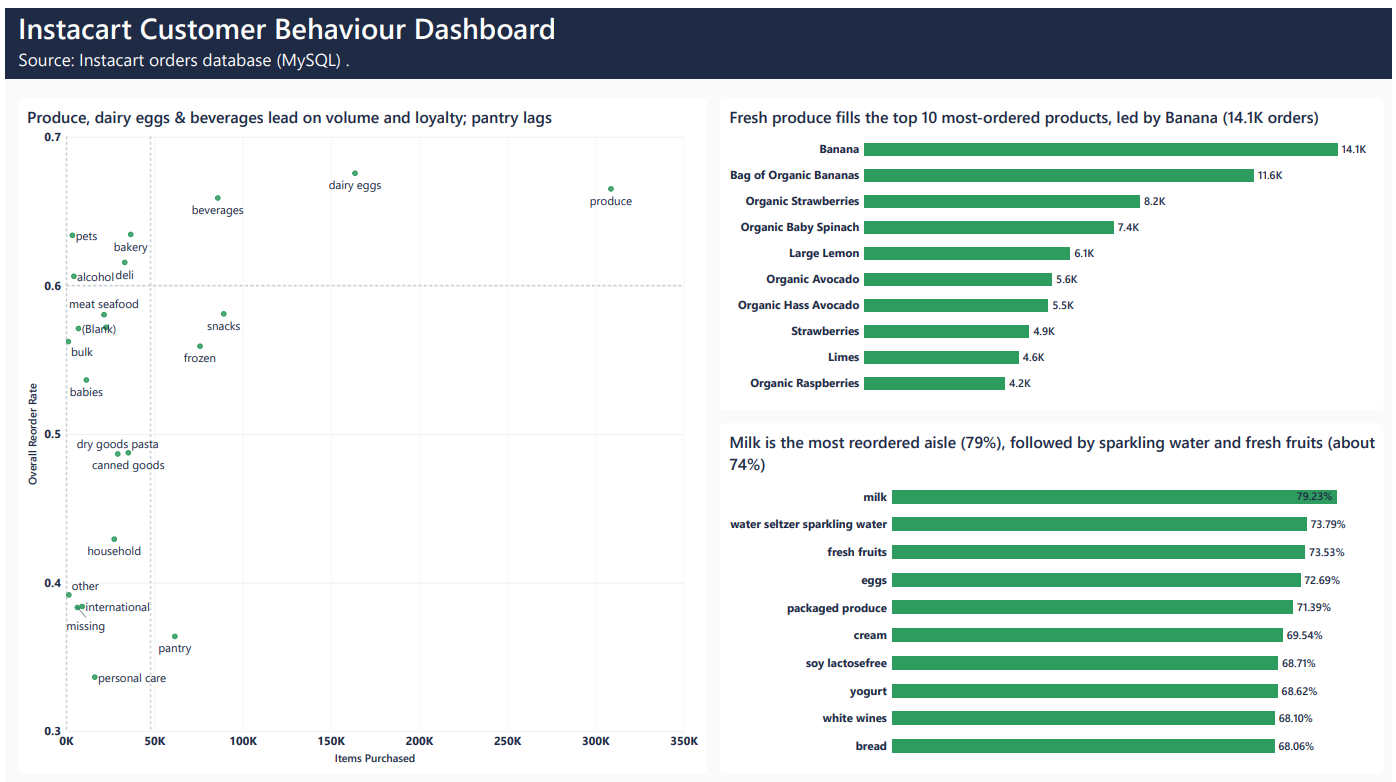

The page's visual inventory and layout, read from the dashboard file:
{"tool":"powerbi","page":{"name":"Products and Departments","canvas":[2560,1440],"ordinal":2},"visuals":[{"type":"clusteredBarChart","title":"Milk is the most reordered aisle (79%), followed by sparkling water and fresh fruits (about 74%)","fields":{"Category":["Aisles.aisle"],"Y":["Order_Products.Reorder Rate"]},"box":[1320,768,1224,648],"z":0},{"type":"clusteredBarChart","title":"Fresh produce fills the top 10 most-ordered products, led by Banana (14.1K orders)","fields":{"Category":["Products.product_name"],"Y":["CountNonNull(Order_Products.order_id)"]},"box":[1320,168,1224,576],"z":2000},{"type":"shape","box":[0,0,2561.6,131.8],"z":7000},{"type":"textbox","box":[24,0,1128,72],"z":8000},{"type":"textbox","box":[24.8,72.3,2536.1,112.9],"z":9000},{"type":"scatterChart","title":"Produce, dairy eggs & beverages lead on volume and loyalty; pantry lags","fields":{"Category":["Departments.department"],"X":["Order_Products.Items Purchased"],"Y":["Orders.Overall Reorder Rate"]},"box":[24,168,1272,1248],"z":10000}]}

Visuals, with their boxes in screenshot pixels (x1, y1, x2, y2), scaled from the page's 2560x1440 canvas onto the 1396x782 screenshot:
"Milk is the most reordered aisle (79%), followed by sparkling water and fresh fruits (about 74%)" clusteredBarChart: 720,417,1387,769
"Fresh produce fills the top 10 most-ordered products, led by Banana (14.1K orders)" clusteredBarChart: 720,91,1387,404
shape: 0,0,1395,72
textbox: 13,0,628,39
textbox: 14,39,1395,101
"Produce, dairy eggs & beverages lead on volume and loyalty; pantry lags" scatterChart: 13,91,707,769
